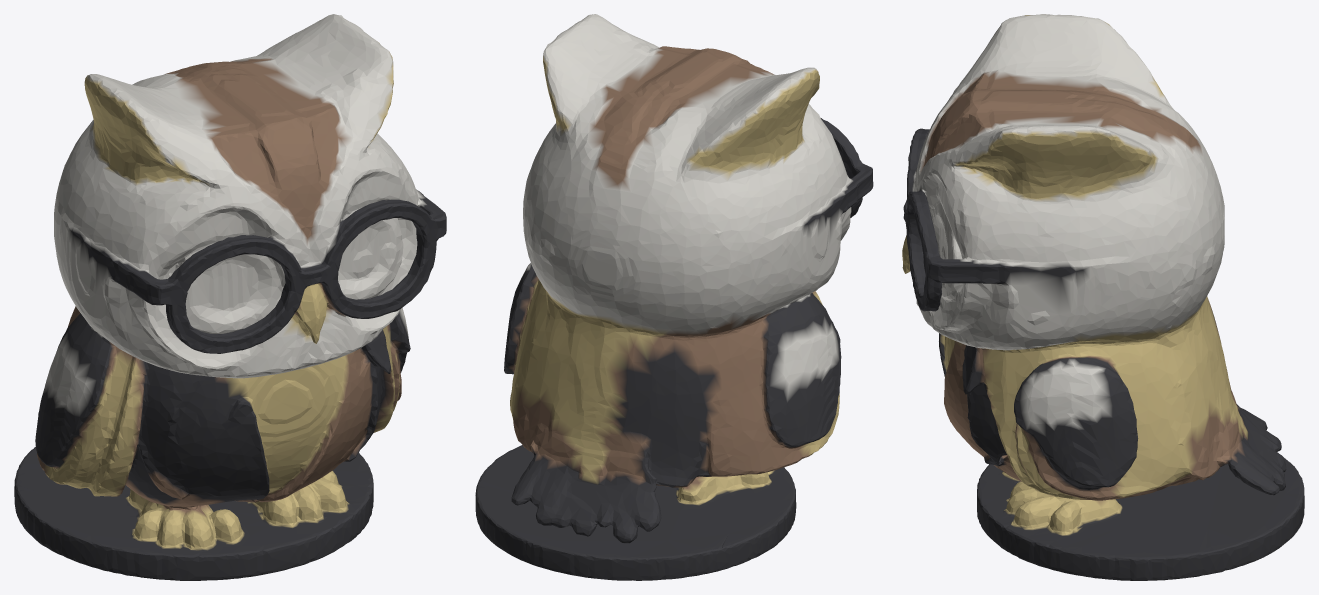
The model's file is baykus.glb.
The picture shows the model from 3 angles, left to right: view 1: azimuth 30°, elevation 25°; view 2: azimuth 150°, elevation 25°; view 3: azimuth 270°, elevation 25°; orthographic projection. The views are drawn at different scales.
Parts seen in each view (by area): view 1: geometry_0; view 2: geometry_0; view 3: geometry_0.
Boxes of the visible parts, left/top/right/bottom form: geometry_0: left=14, top=14, right=446, bottom=580; geometry_0: left=475, top=14, right=873, bottom=580; geometry_0: left=902, top=14, right=1304, bottom=580.
Size of the model in its own units: 0.7941 by 1.05 by 0.8678.
